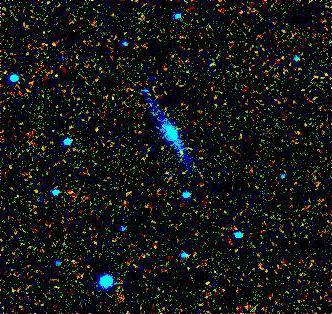star: (164, 136, 194, 166)
